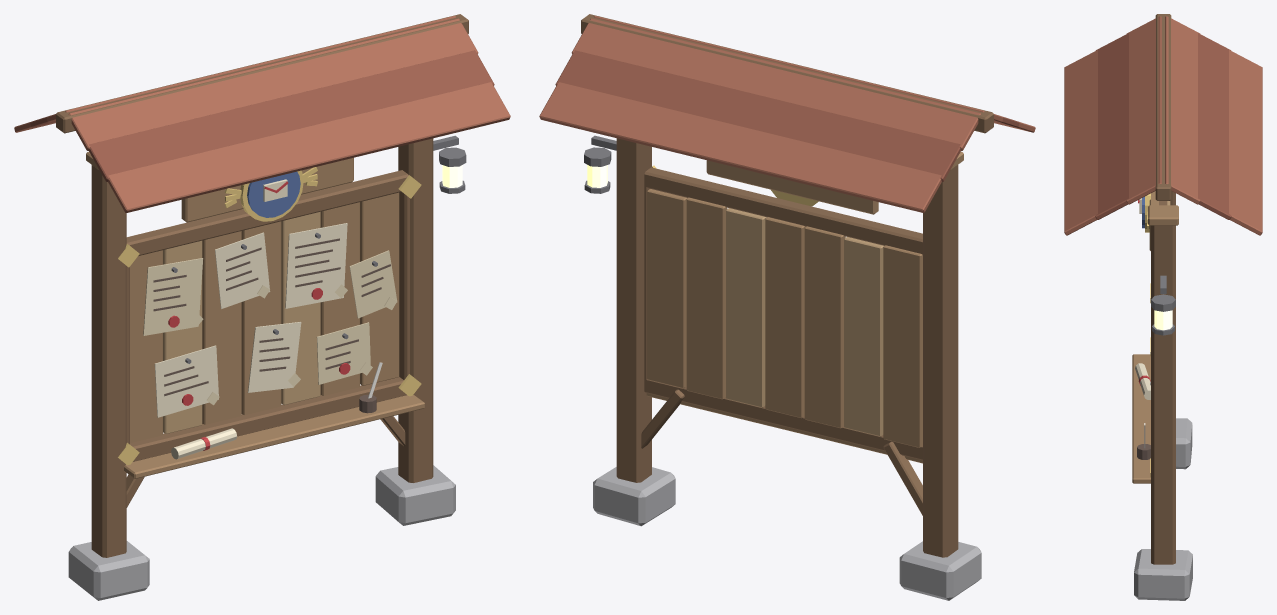
Rendered from courier_guild_board.glb.
3 views of the same model, side by side, from view 1: azimuth 30°, elevation 25°; view 2: azimuth 150°, elevation 25°; view 3: azimuth 270°, elevation 25° (orthographic). The views are drawn at different scales.
Visible parts, largest first — view 1: CourierGuildBoard; view 2: CourierGuildBoard; view 3: CourierGuildBoard.
Part boxes in pixels (<box>): CourierGuildBoard: <box>14,14,510,600</box>; CourierGuildBoard: <box>539,14,1035,600</box>; CourierGuildBoard: <box>1064,14,1262,600</box>.
Bounding box in the file's own units: 2.65 × 3.02 × 1.28.
